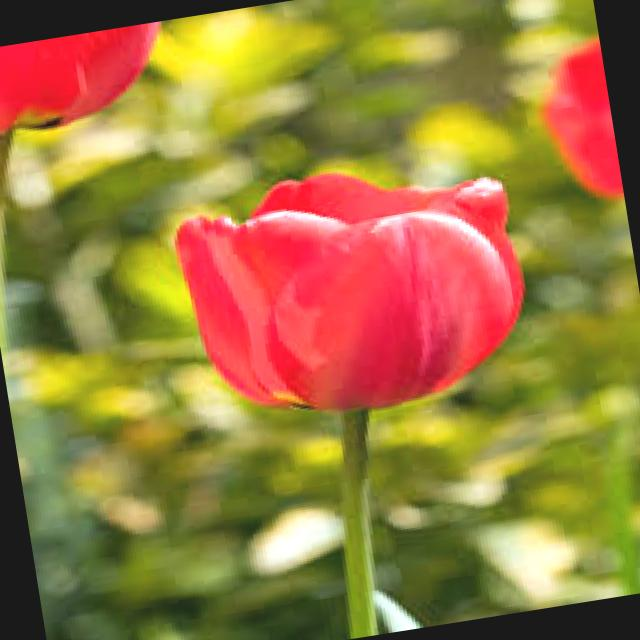tulip: (118, 118, 580, 470)
